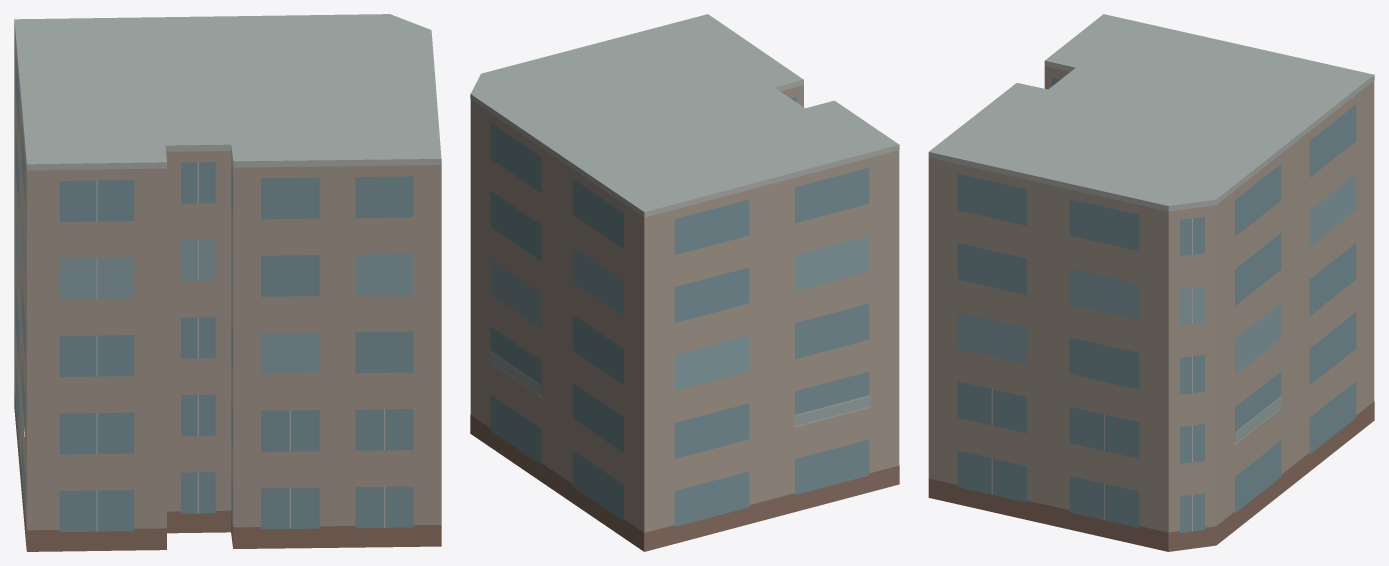
File: survey-upis-32996221.glb
3 renders of one model, left to right at view 1: azimuth 30°, elevation 25°; view 2: azimuth 150°, elevation 25°; view 3: azimuth 270°, elevation 25°, orthographic. The views are drawn at different scales.
Visible parts, largest first — view 1: survey-upis-32996221.tmp; view 2: survey-upis-32996221.tmp; view 3: survey-upis-32996221.tmp.
Part boxes in pixels (x1=…): survey-upis-32996221.tmp: x1=14, y1=14, x2=441, y2=551; survey-upis-32996221.tmp: x1=470, y1=14, x2=899, y2=551; survey-upis-32996221.tmp: x1=928, y1=14, x2=1374, y2=551.
Bounding box in the file's own units: 18.17 × 15.25 × 17.83.
